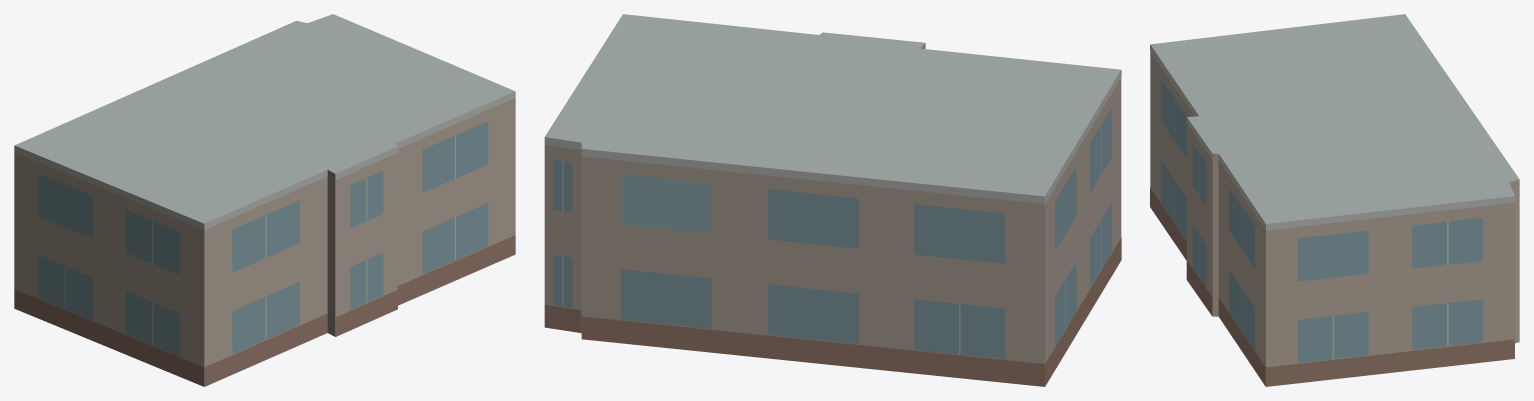
File: survey-upis-32624073.glb
3 renders of one model, left to right at view 1: azimuth 30°, elevation 25°; view 2: azimuth 150°, elevation 25°; view 3: azimuth 270°, elevation 25°, orthographic. The views are drawn at different scales.
Visible parts, largest first — view 1: survey-upis-32624073.tmp; view 2: survey-upis-32624073.tmp; view 3: survey-upis-32624073.tmp.
Part boxes in pixels (x1,y1,x2,y2): survey-upis-32624073.tmp: (14, 14, 515, 386); survey-upis-32624073.tmp: (544, 14, 1121, 386); survey-upis-32624073.tmp: (1150, 14, 1519, 386).
Size of the model in its own units: 16.89 by 6.1 by 12.56.
